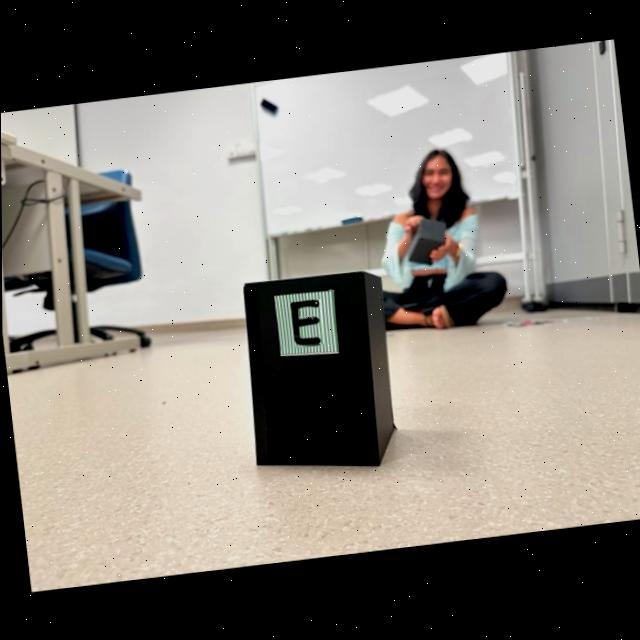E: (290, 301, 321, 347)
